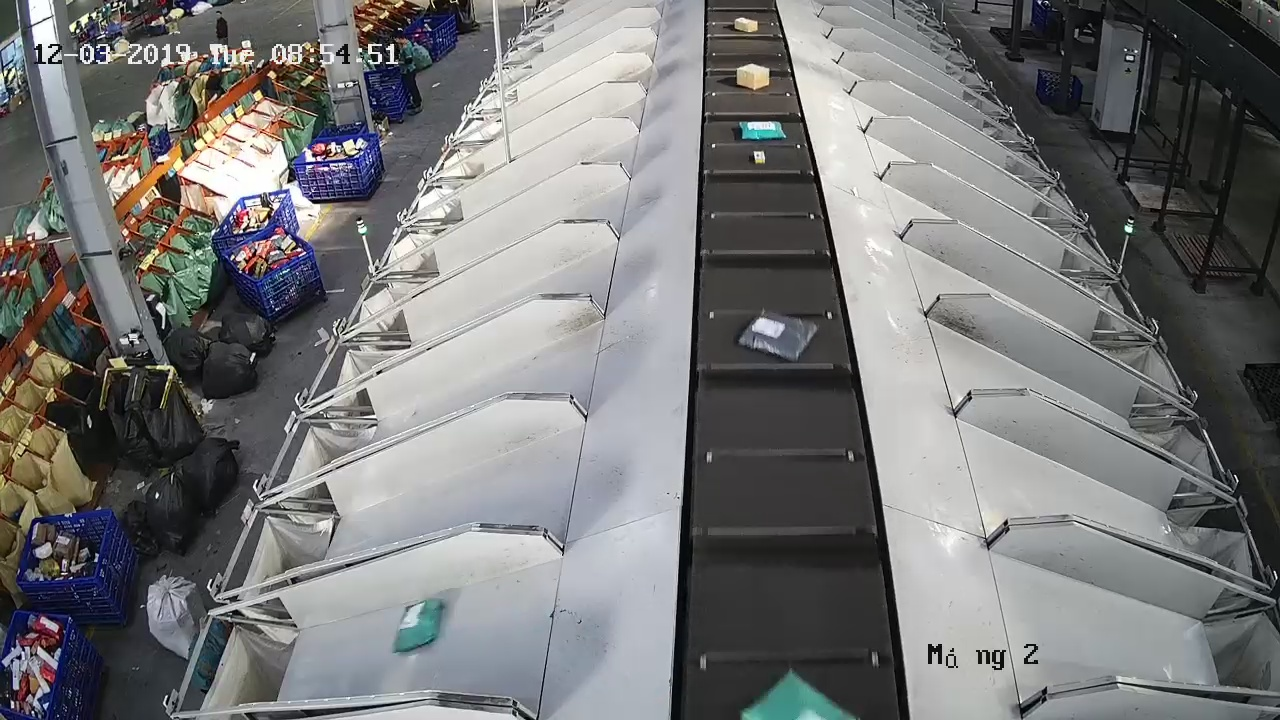parcel: (737, 309, 819, 362), (389, 597, 442, 653), (738, 119, 787, 140), (752, 149, 767, 166)
